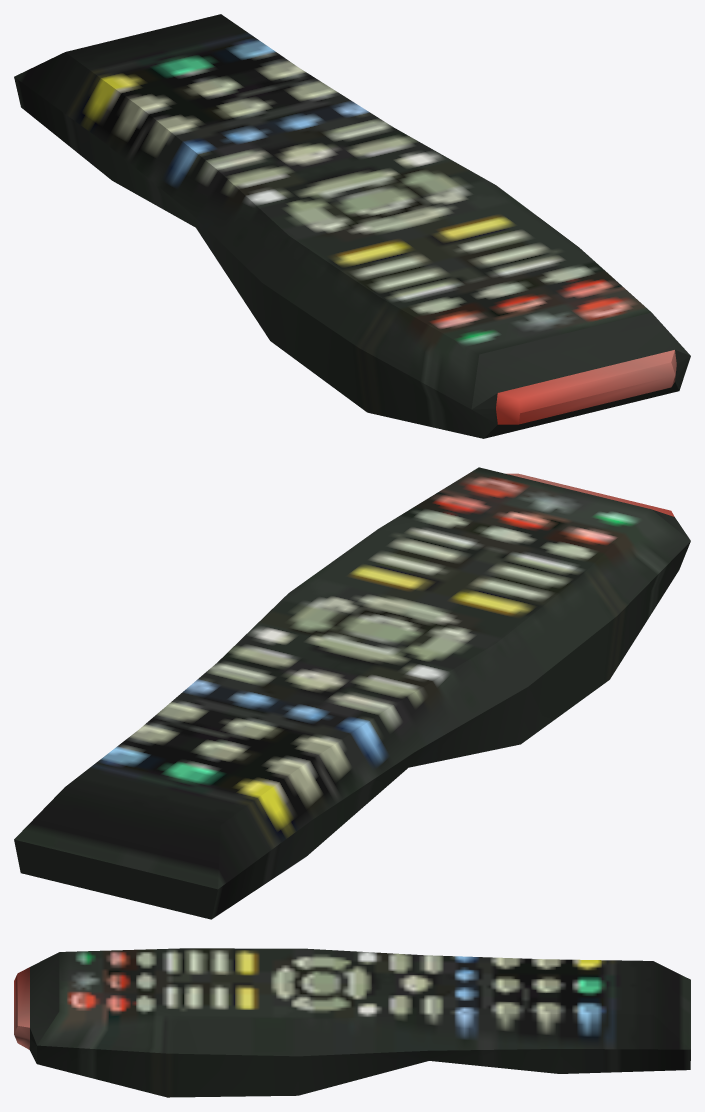
File: mandoTelevisor.fbx
3 views of the same model, one above another, from view 1: azimuth 30°, elevation 25°; view 2: azimuth 150°, elevation 25°; view 3: azimuth 270°, elevation 25° (orthographic). The views are drawn at different scales.
Parts seen in each view (by area): view 1: s4studio_mesh_0; view 2: s4studio_mesh_0; view 3: s4studio_mesh_0.
Boxes of the visible parts, box(x1,y1,x2,y2) form: s4studio_mesh_0: box(14, 14, 690, 438); s4studio_mesh_0: box(14, 467, 690, 919); s4studio_mesh_0: box(14, 948, 690, 1097).
Bounding box in the file's own units: 8.81 × 3.35 × 27.62.
1 material, 1 textured.
